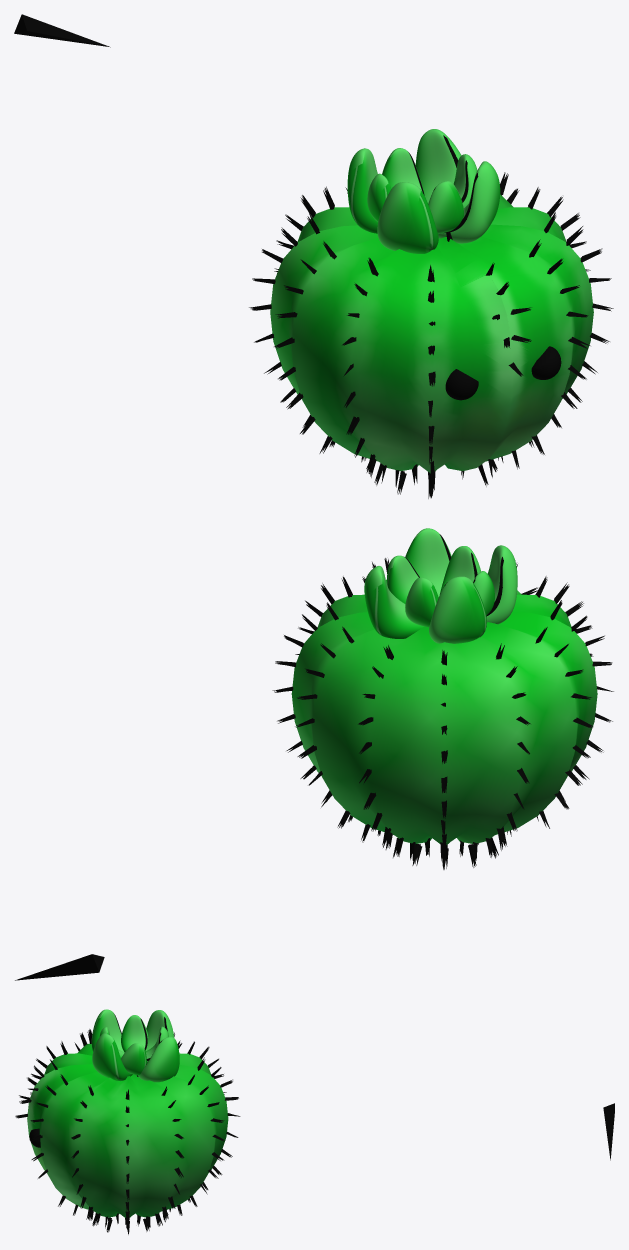
File: CACTUS3.fbx_Scene.fbx
The picture shows the model from 3 angles, top to bottom: view 1: azimuth 30°, elevation 25°; view 2: azimuth 150°, elevation 25°; view 3: azimuth 270°, elevation 25°; orthographic projection. The views are drawn at different scales.
Parts seen in each view (by area): view 1: Sphere, Cube.007, Sphere.001, Cone; view 2: Sphere, Cube.007, Cone; view 3: Sphere, Cube.007, Cone.
Boxes of the visible parts, <box> form: Sphere: <box>270,194,593,473</box>; Cube.007: <box>347,129,500,253</box>; Sphere.001: <box>445,346,561,400</box>; Cone: <box>14,14,110,47</box>; Sphere: <box>291,579,597,844</box>; Cube.007: <box>364,528,517,643</box>; Cone: <box>15,954,104,980</box>; Sphere: <box>27,1043,228,1217</box>; Cube.007: <box>91,1009,179,1082</box>; Cone: <box>603,1103,614,1160</box>.
Bounding box in the file's own units: 2.26 × 2.15 × 5.97.
Materials: 4 (2 with a texture image).
